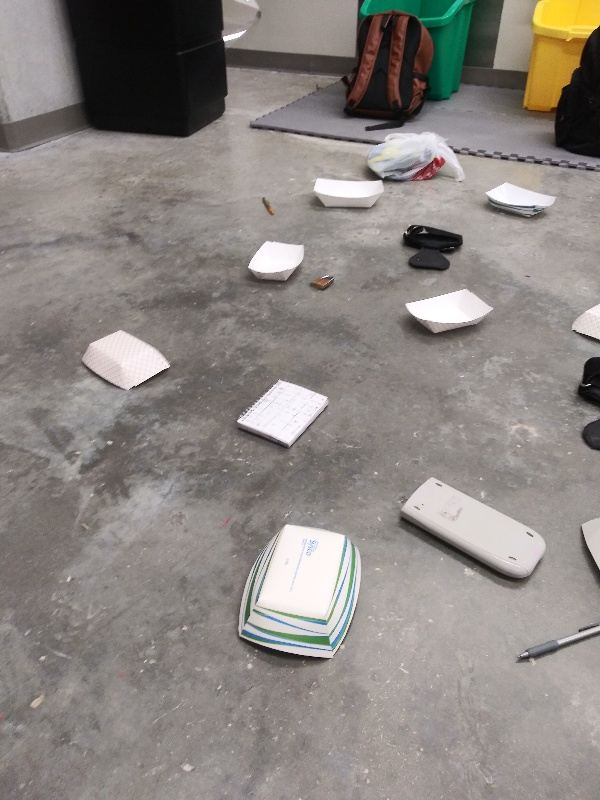plate: (75, 326, 179, 395), (397, 285, 496, 339), (481, 179, 561, 222), (244, 237, 309, 287), (312, 175, 391, 213), (574, 511, 599, 594), (562, 298, 600, 349)
